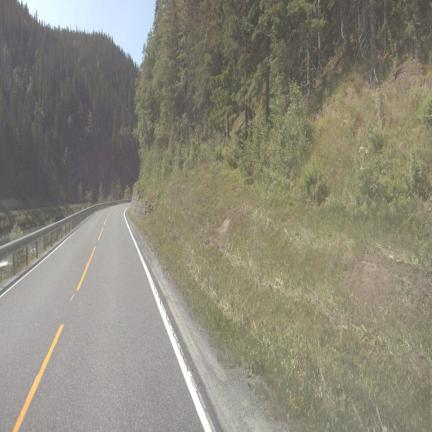Road: (0, 205, 210, 430)
